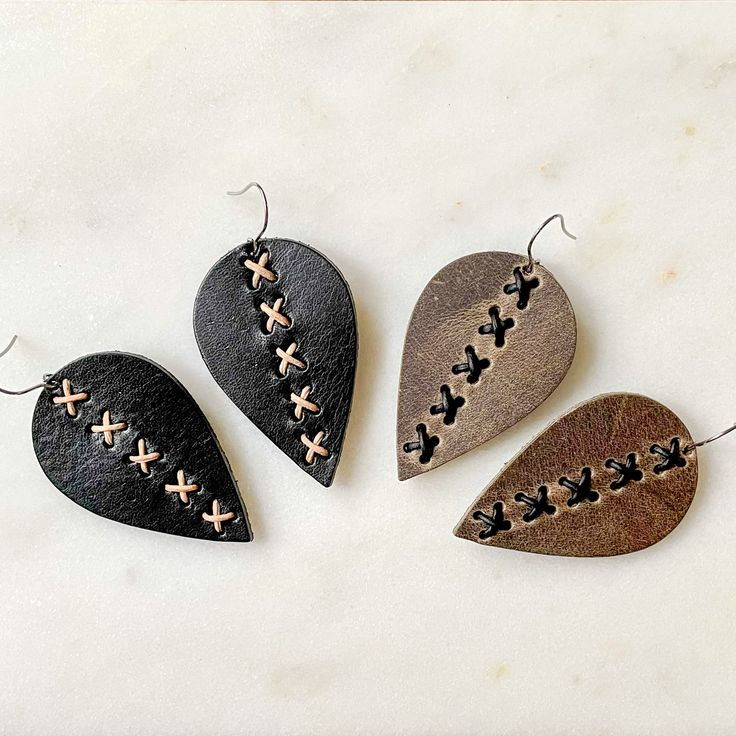cuero: (33, 239, 698, 559)
